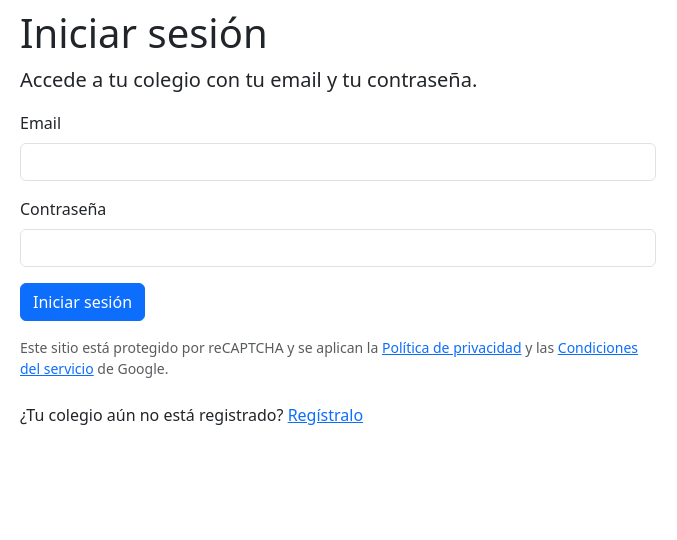
LoginPage: the answers of the server › a correct login › warns that cookies are needed when the browser did not accept the session cookie
The image size is (677, 540).
Type "jose.garcia@example.com" into the field labelled "Email".
click(338, 162); type("jose.garcia@example.com")  # box 20,143 -> 656,181
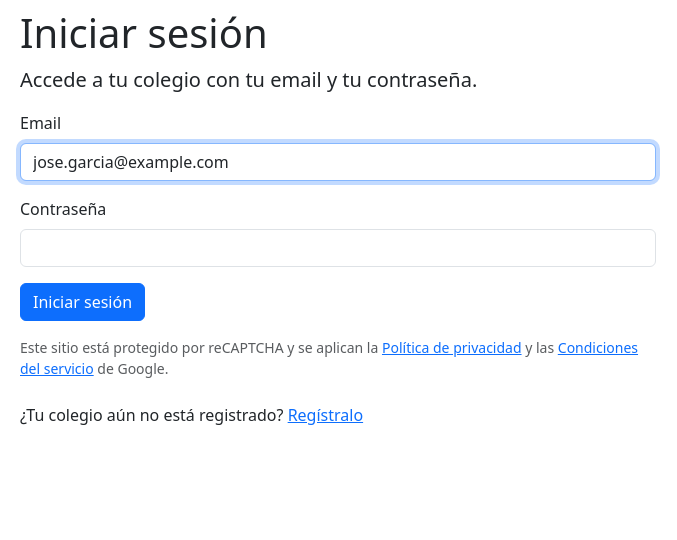
Type "Secreta123!" into the password field labelled "Contraseña".
click(338, 248); type("Secreta123!")  # box 20,229 -> 656,267
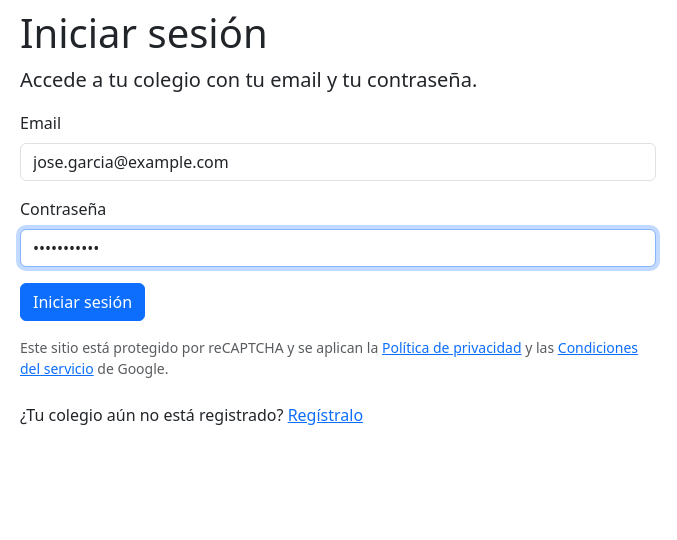
Click the button "Iniciar sesión".
click(82, 302)  # box 20,283 -> 145,321
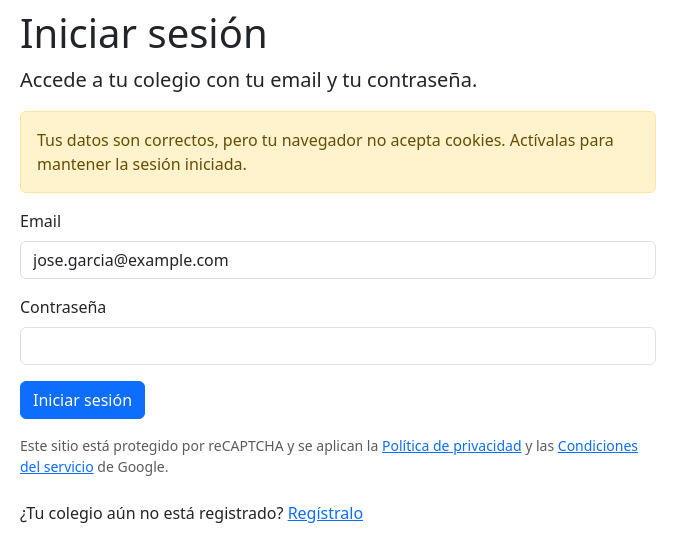
Check: the message shows "Tus datos son correctos, pero tu navegador no acepta cookies. Actívalas para mantener la sesión iniciada.", box 37,129 -> 614,175
